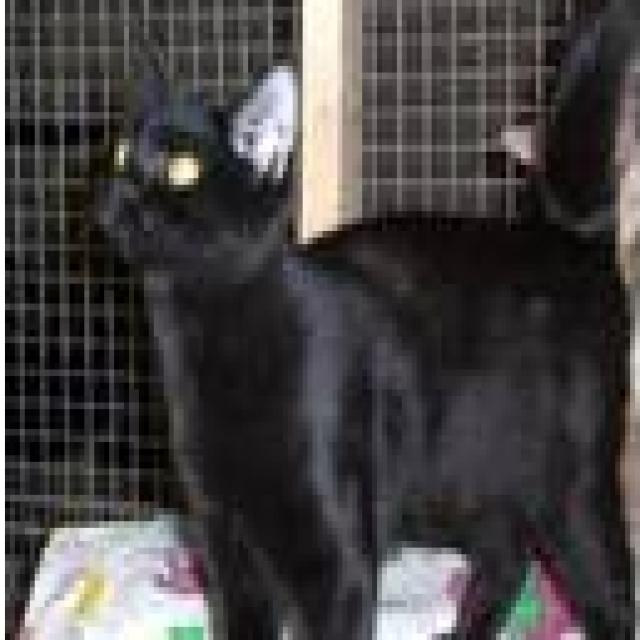Bombay: (89, 0, 635, 640)
